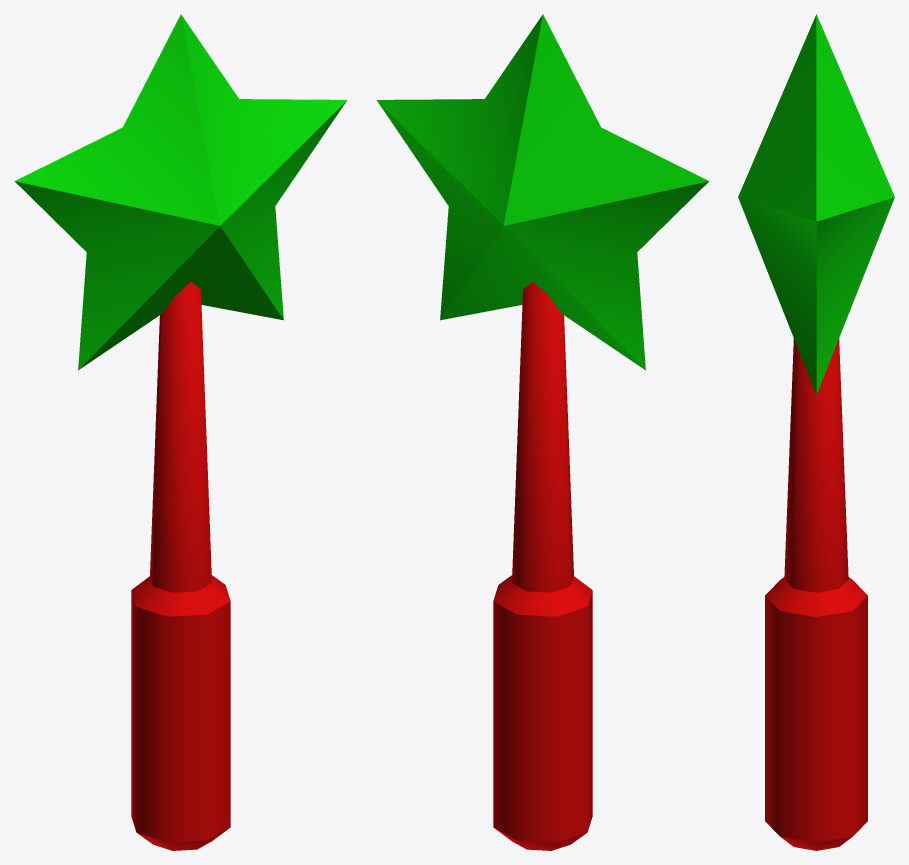
File: plastic_wand.glb
3 renders of one model, left to right at view 1: azimuth 30°, elevation 25°; view 2: azimuth 150°, elevation 25°; view 3: azimuth 270°, elevation 25°, orthographic.
Parts seen in each view (by area): view 1: PlasticWand; view 2: PlasticWand; view 3: PlasticWand.
Part boxes in pixels (left/top/right/bottom): PlasticWand: left=14, top=14, right=346, bottom=850; PlasticWand: left=377, top=14, right=709, bottom=850; PlasticWand: left=738, top=14, right=894, bottom=850.
Bounding box in the file's own units: 0.2913 × 0.6885 × 0.1189.
